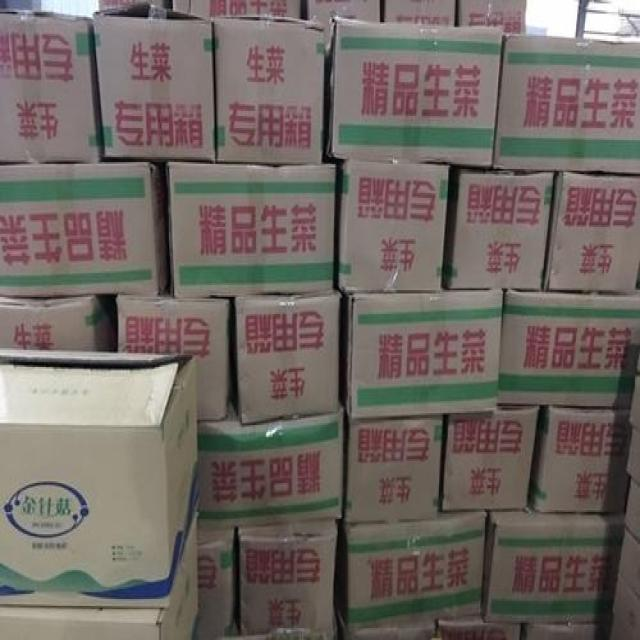box: (0, 347, 201, 609), (326, 15, 504, 166), (0, 515, 200, 638), (168, 163, 336, 298), (0, 163, 170, 296), (345, 289, 503, 421), (492, 33, 639, 172), (92, 1, 214, 161), (196, 404, 344, 531), (344, 511, 486, 634), (480, 505, 625, 624), (499, 288, 639, 407), (213, 15, 324, 165), (0, 10, 103, 162), (230, 290, 341, 424), (116, 290, 230, 420), (339, 160, 450, 293), (443, 170, 554, 290), (543, 171, 639, 291), (239, 519, 336, 634), (529, 406, 633, 513), (343, 416, 443, 521), (442, 406, 539, 511), (1, 296, 102, 351), (194, 527, 236, 638), (308, 0, 379, 49), (608, 526, 639, 638), (459, 0, 526, 33), (190, 0, 300, 19), (439, 614, 520, 638), (385, 0, 456, 25), (527, 624, 609, 638)
